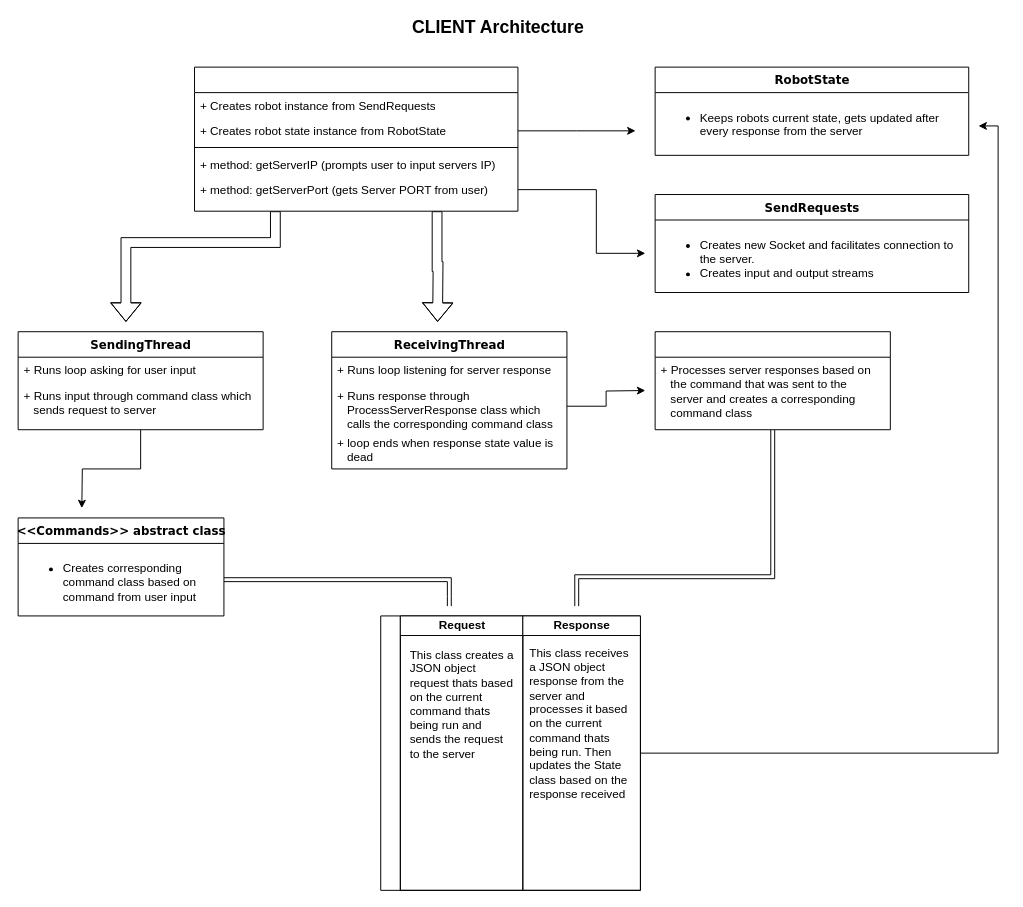
This 1023x907 diagram has some shape labels left out. The box of each missing label's shape, as (x1, y1, x2, y2) in pixels:
CurrentCommand (child class): (380, 615, 640, 890)
ProcessServerResponse: (654, 331, 890, 430)
RobotClient: (194, 66, 518, 211)
